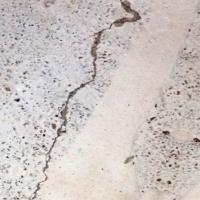crack: (34, 0, 146, 193)
